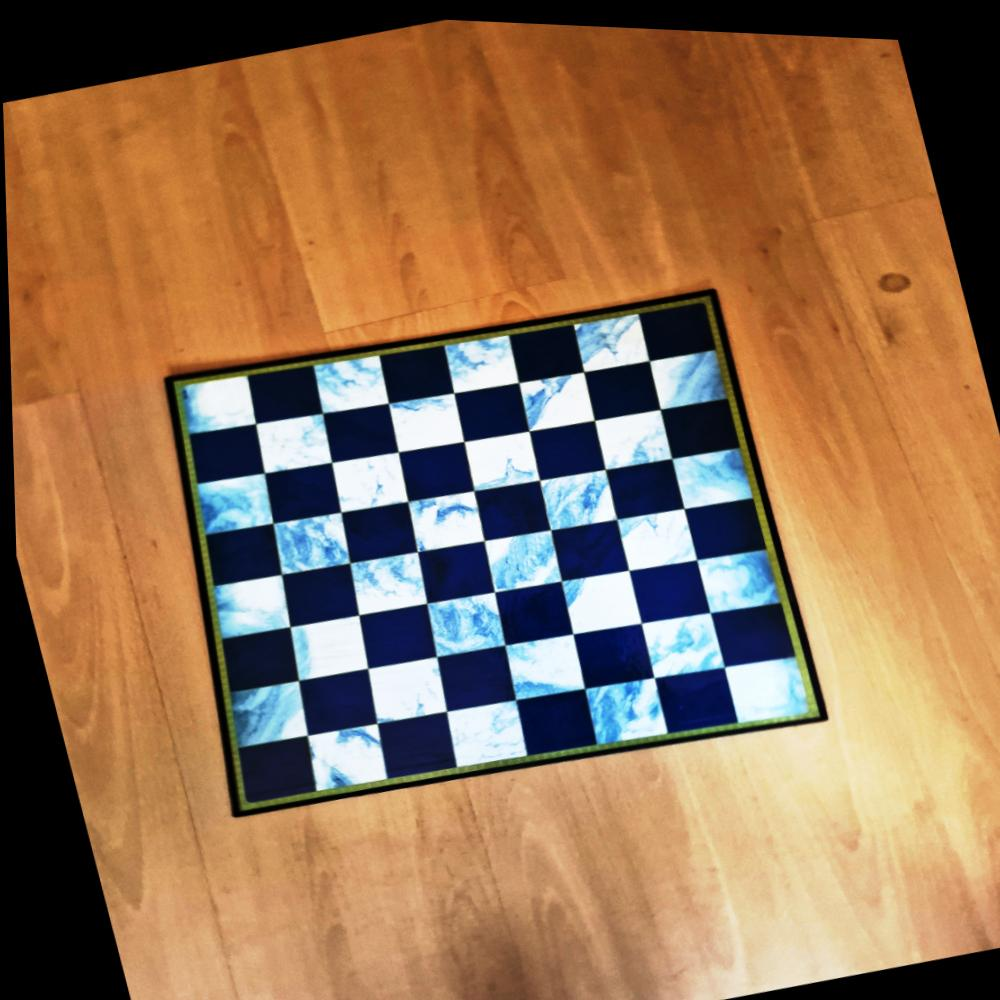chessfield: (721, 645, 810, 724), (222, 671, 312, 748), (297, 718, 386, 794), (359, 648, 446, 724), (499, 625, 585, 701), (580, 669, 667, 744), (694, 538, 780, 613), (188, 467, 276, 540), (636, 603, 721, 678), (206, 568, 292, 642), (442, 692, 529, 765), (282, 606, 369, 679), (420, 582, 506, 655), (555, 561, 639, 635), (611, 498, 696, 571), (670, 437, 754, 510), (266, 505, 351, 577), (343, 546, 428, 618), (232, 729, 318, 800), (709, 593, 793, 665), (650, 658, 734, 730), (511, 683, 596, 754), (294, 661, 378, 732), (535, 460, 619, 531), (170, 367, 254, 438), (215, 620, 300, 690), (567, 616, 650, 687), (373, 703, 455, 774), (404, 484, 487, 554), (353, 596, 436, 666), (433, 640, 516, 710), (479, 523, 560, 594), (329, 445, 411, 515), (249, 406, 331, 476), (623, 552, 706, 621), (649, 339, 730, 409), (490, 572, 572, 641), (682, 489, 765, 557), (414, 534, 495, 603), (276, 560, 358, 628), (309, 347, 391, 415), (200, 520, 283, 587), (593, 400, 673, 469), (384, 385, 465, 453), (181, 415, 262, 483), (547, 513, 627, 580), (265, 456, 345, 523), (460, 423, 539, 490), (661, 390, 741, 456), (339, 497, 419, 563), (515, 360, 595, 426), (440, 327, 520, 392), (471, 474, 549, 540), (376, 338, 454, 404), (320, 397, 399, 462), (396, 435, 475, 500), (602, 451, 680, 516), (582, 353, 661, 417), (526, 414, 605, 477), (638, 292, 715, 356), (242, 361, 320, 424), (505, 317, 583, 380), (452, 377, 528, 440), (576, 306, 646, 366)
